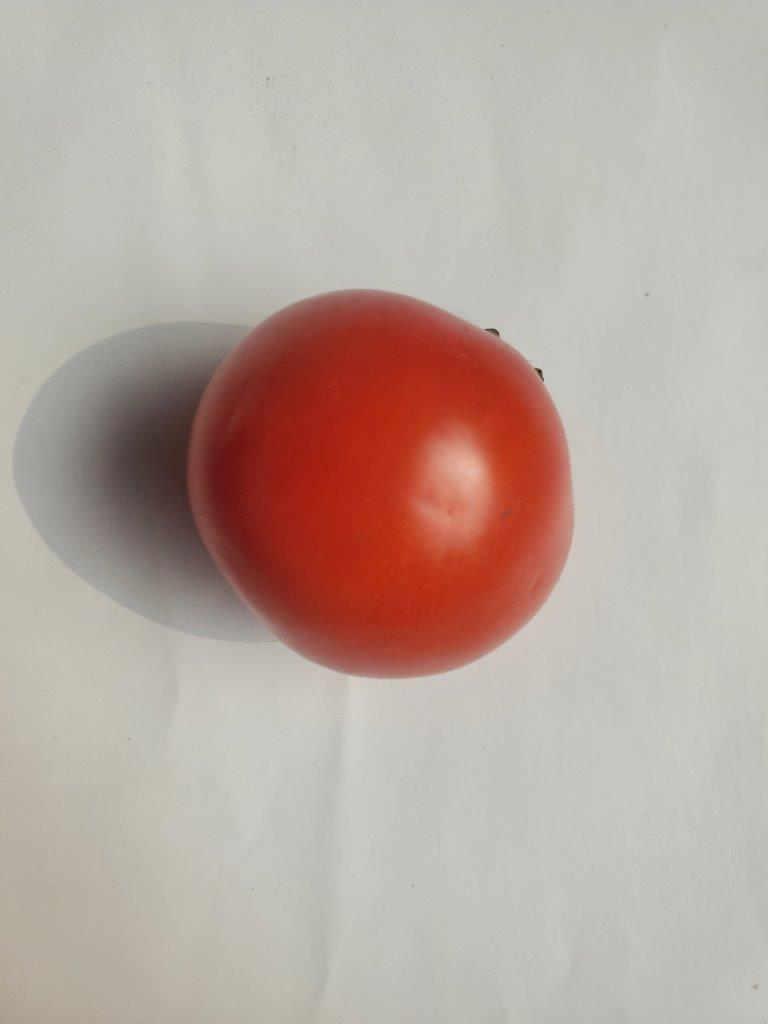tomato: (187, 290, 573, 677)
